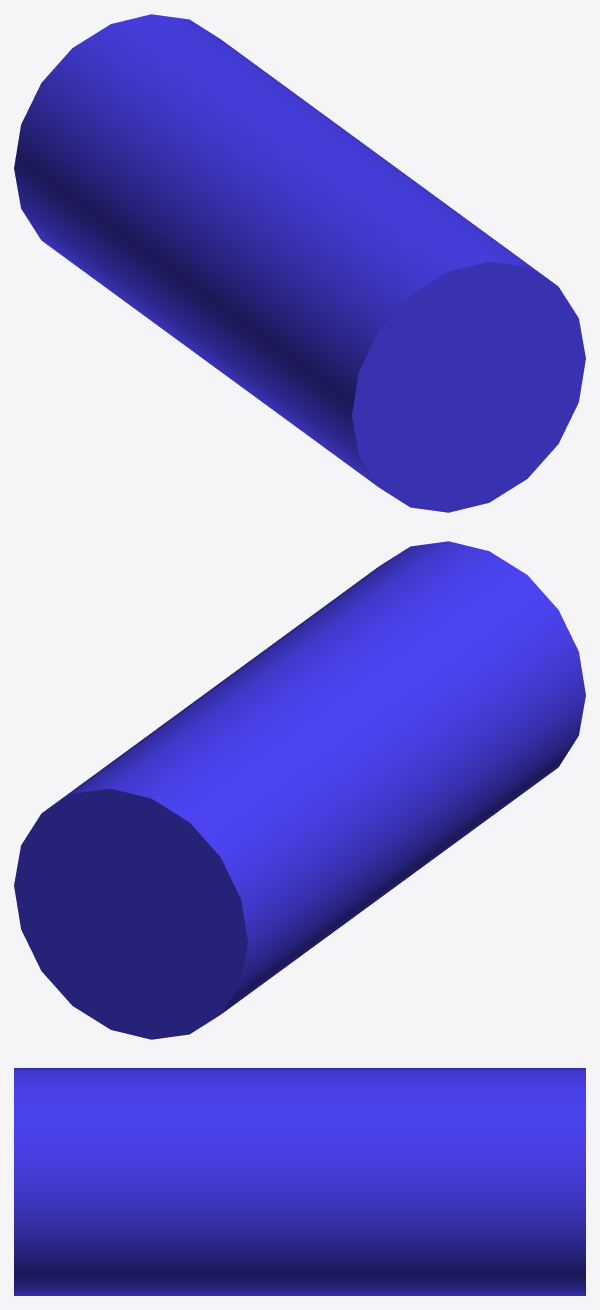
Rendered from BeemE.FBX.
3 views of the same model, one above another, from view 1: azimuth 30°, elevation 25°; view 2: azimuth 150°, elevation 25°; view 3: azimuth 270°, elevation 25° (orthographic). The views are drawn at different scales.
Visible parts, largest first — view 1: Cylinder001; view 2: Cylinder001; view 3: Cylinder001.
Boxes of the visible parts, <box> form: Cylinder001: <box>14,14,585,512</box>; Cylinder001: <box>14,541,585,1039</box>; Cylinder001: <box>14,1068,585,1295</box>.
Bounding box in the file's own units: 0.2 × 0.197 × 0.5.
